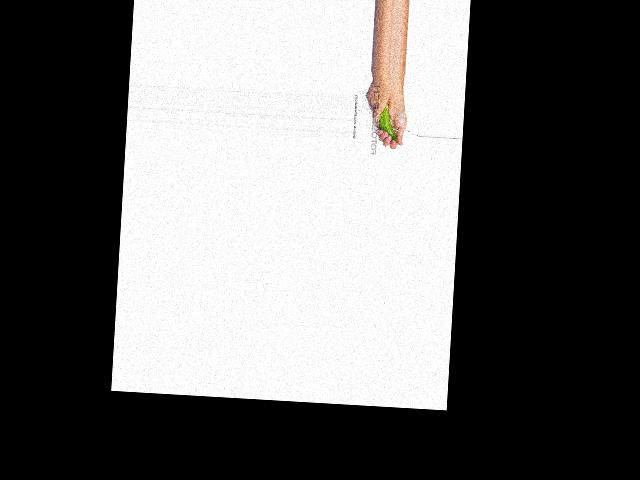cucumber: (376, 101, 399, 141)
